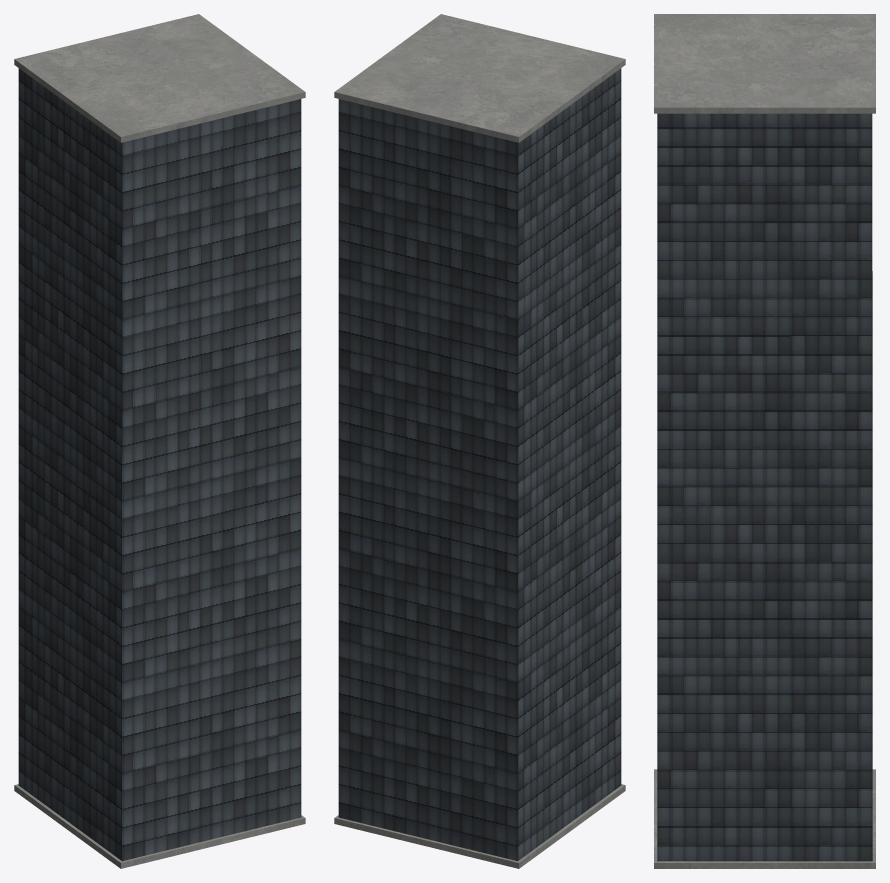
Rendered from building_04.1.glb.
3 renders of one model, left to right at view 1: azimuth 30°, elevation 25°; view 2: azimuth 150°, elevation 25°; view 3: azimuth 270°, elevation 25°, orthographic. The views are drawn at different scales.
Visible parts, largest first — view 1: building_04_12; view 2: building_04_12; view 3: building_04_12.
Part boxes in pixels (<box>): building_04_12: <box>14,14,305,868</box>; building_04_12: <box>334,14,625,868</box>; building_04_12: <box>654,14,875,868</box>.
Bounding box in the file's own units: 33 × 125 × 33.
1 material, 1 textured.
